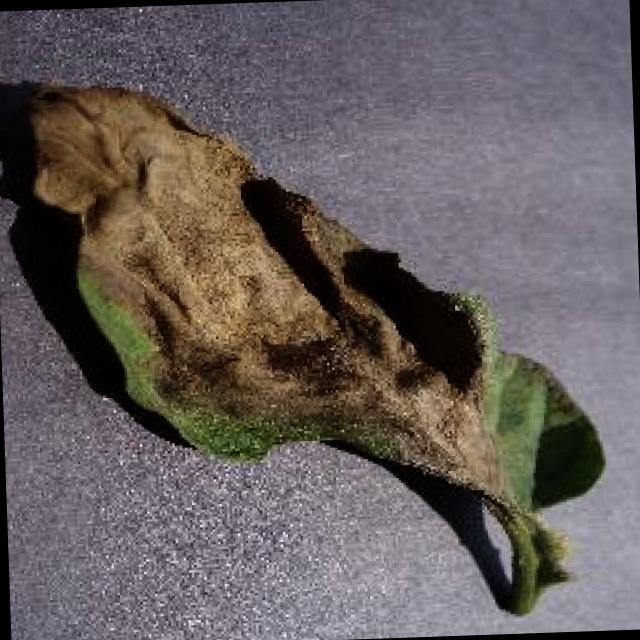Tomato late blight leaf: (14, 55, 614, 535)
